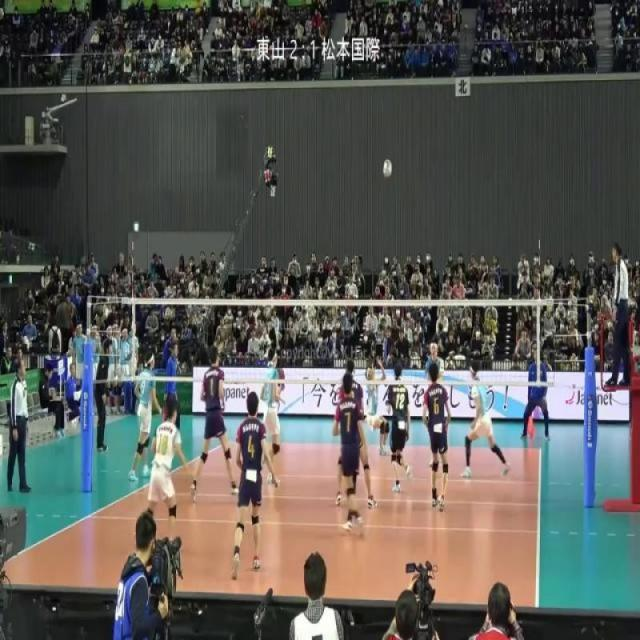volleyball: (382, 158, 393, 178)
